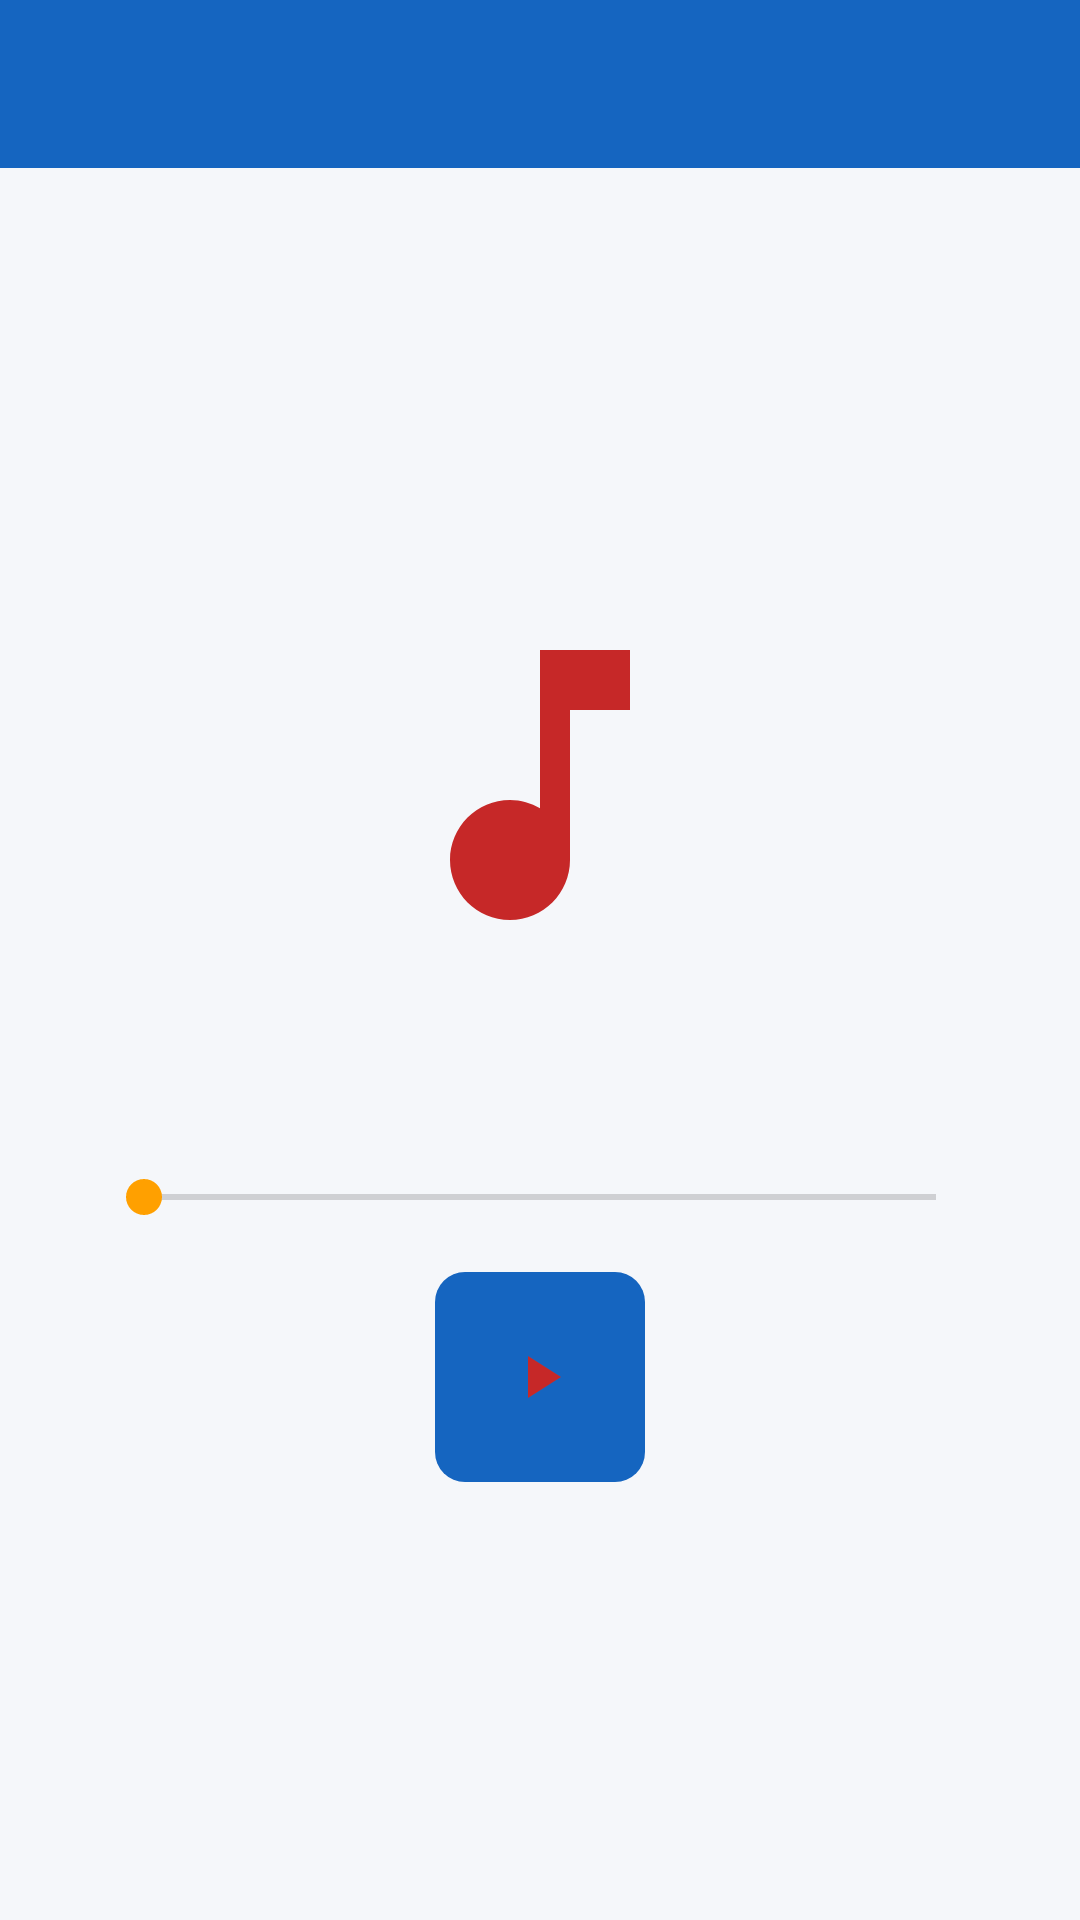

Where icons sit on this 1080*1920 app screen, as (x1, y1, x2, y2):
audio: (450, 650, 630, 920)
